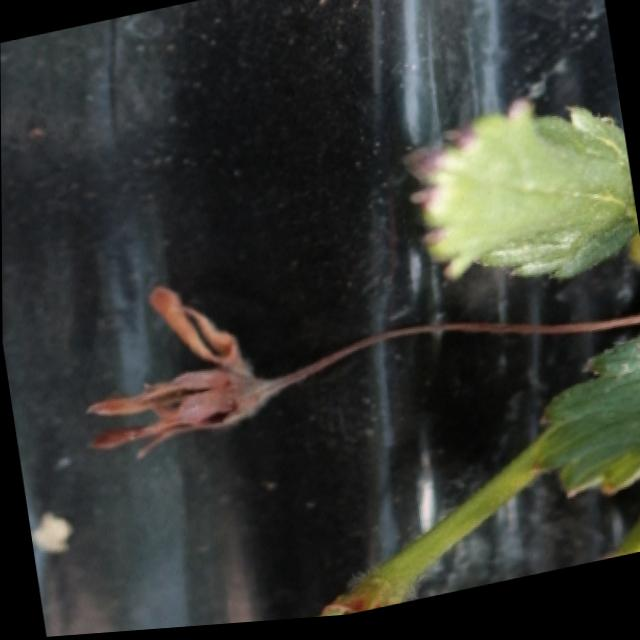Gray Mold: (86, 288, 296, 460)
